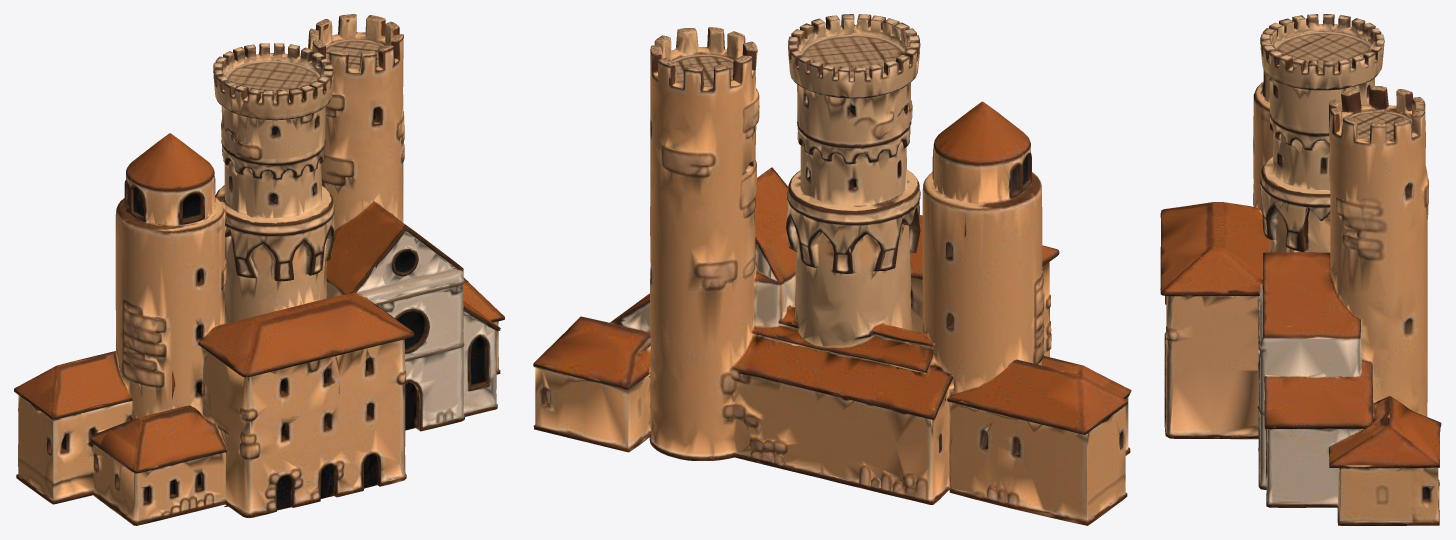
The model's file is citta.glb.
The picture shows the model from 3 angles, left to right: view 1: azimuth 30°, elevation 25°; view 2: azimuth 150°, elevation 25°; view 3: azimuth 270°, elevation 25°; orthographic projection. The views are drawn at different scales.
Bounding box in the file's own units: 1.9 × 1.42 × 0.9748.
Materials: 1 (1 with a texture image).
